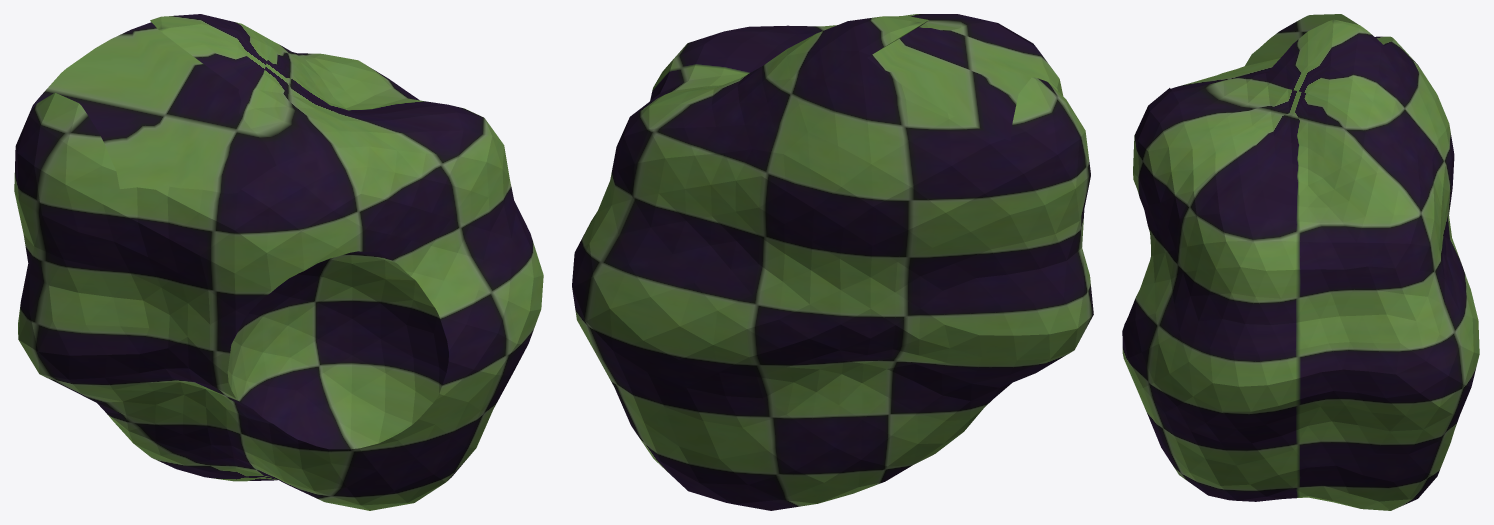
The picture shows the model from 3 angles, left to right: view 1: azimuth 30°, elevation 25°; view 2: azimuth 150°, elevation 25°; view 3: azimuth 270°, elevation 25°; orthographic projection. The views are drawn at different scales.
Parts seen in each view (by area): view 1: geometry_0; view 2: geometry_0; view 3: geometry_0.
Part boxes in pixels (x1,y1,x2,y2): geometry_0: (14, 14, 543, 510); geometry_0: (572, 14, 1093, 510); geometry_0: (1122, 14, 1479, 510).
Size of the model in its own units: 2.51 by 2.49 by 1.92.
1 material, 1 textured.
